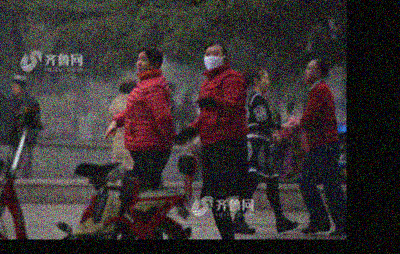with_mask: (202, 48, 223, 70)
without_mask: (134, 52, 153, 74), (302, 62, 315, 81), (258, 74, 271, 90)
